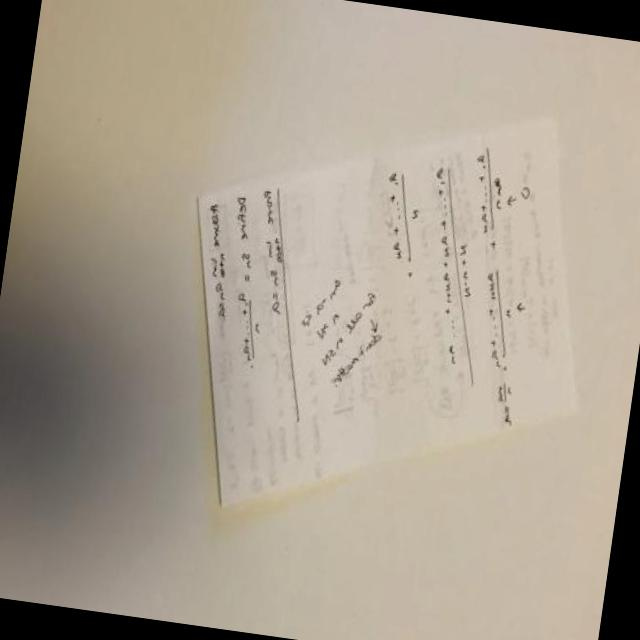paper: (177, 82, 578, 530)
